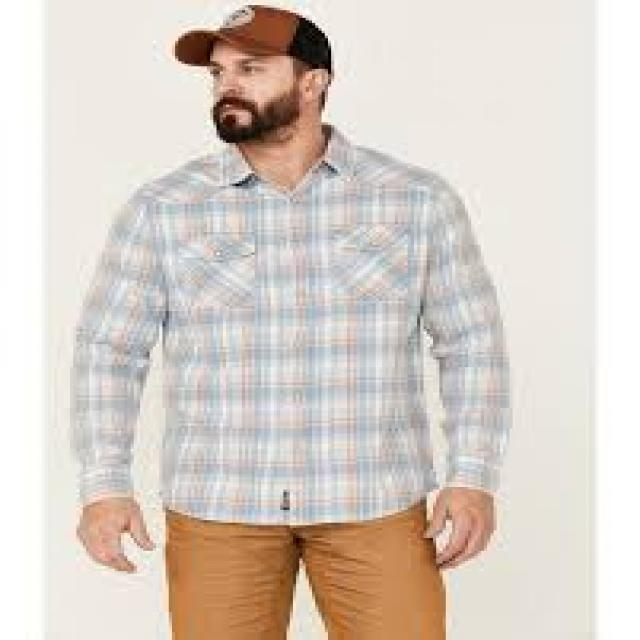plaid: (78, 139, 502, 518)
